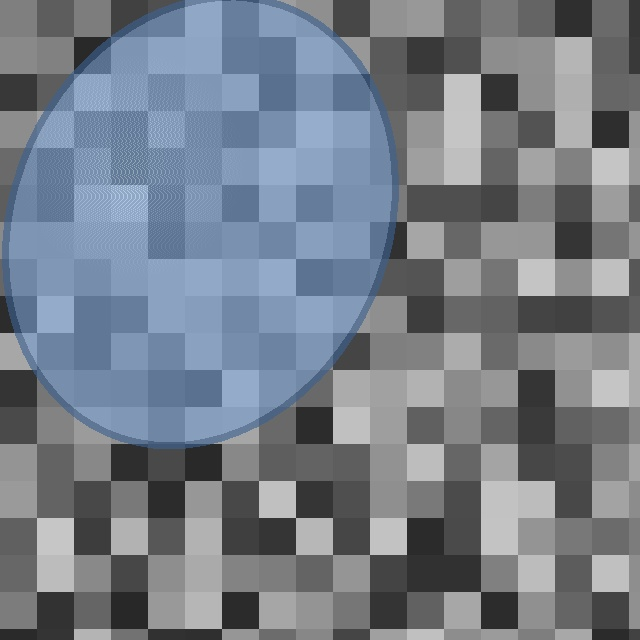lens: (5, 0, 395, 445)
